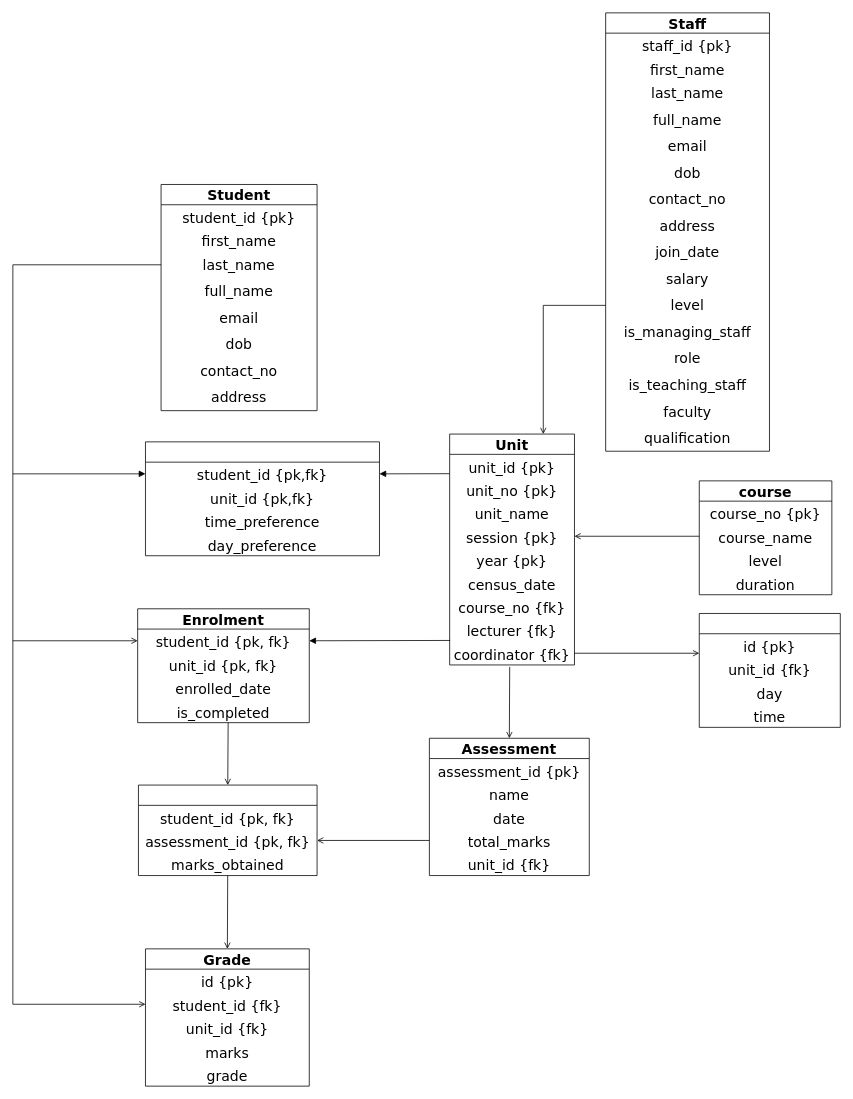
This 853x1099 diagram has some shape labels left out. Each missing label, with the box of its shape:
Student_assesment: (138, 784, 317, 876)
Student_Unit_Preference: (145, 441, 379, 556)
unit_schedule: (698, 613, 840, 727)
